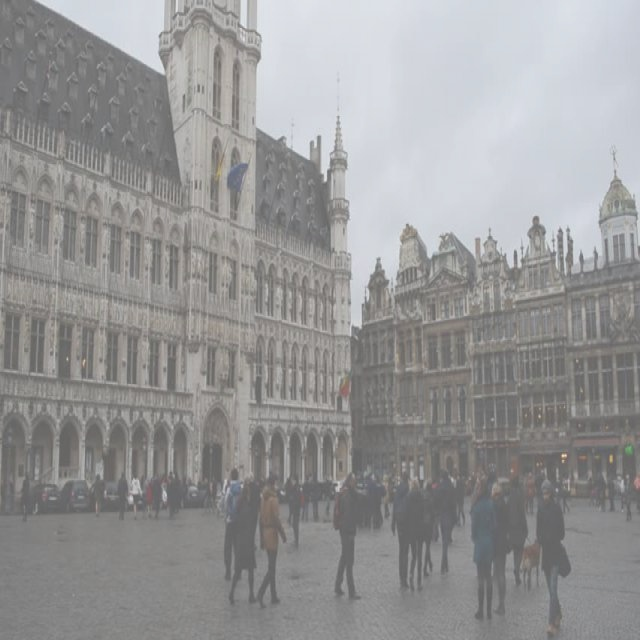pessoa: (534, 476, 573, 639), (254, 468, 290, 611), (228, 474, 262, 608), (330, 468, 362, 601), (468, 470, 496, 622), (486, 478, 512, 618), (389, 467, 414, 592), (433, 467, 458, 582), (588, 468, 639, 523), (506, 474, 530, 588), (220, 466, 243, 584), (404, 472, 424, 595), (419, 473, 441, 580), (356, 468, 386, 528), (152, 468, 186, 516), (442, 466, 458, 546), (288, 470, 302, 552), (470, 462, 497, 502), (17, 468, 32, 524), (556, 464, 572, 514), (453, 470, 466, 530), (130, 471, 144, 522), (115, 469, 128, 522), (378, 467, 391, 520), (310, 469, 322, 524), (300, 472, 312, 523), (92, 472, 104, 519), (532, 469, 544, 514), (380, 468, 390, 520), (287, 471, 296, 528), (525, 469, 535, 516), (431, 476, 438, 542), (222, 466, 232, 511), (323, 470, 333, 514), (145, 480, 155, 520), (201, 476, 211, 516), (520, 469, 528, 512), (254, 472, 267, 494), (211, 474, 219, 509)
